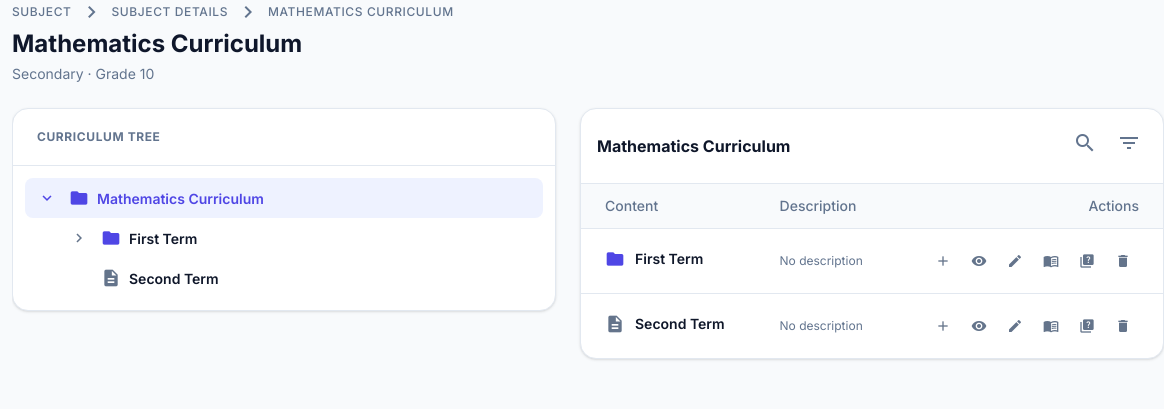
Scenario: TenantSubjectCurriculumComponent › renders the selected curriculum node direct children in the content table
Expected: the button "First Term No description" is shown, [581,228,1163,294]
Expected: the button "Second Term No description" is shown, [581,294,1163,358]
Click the button with class "curriculum-content-link" below "Content" at x=654, y=258, box [605,248,703,268]
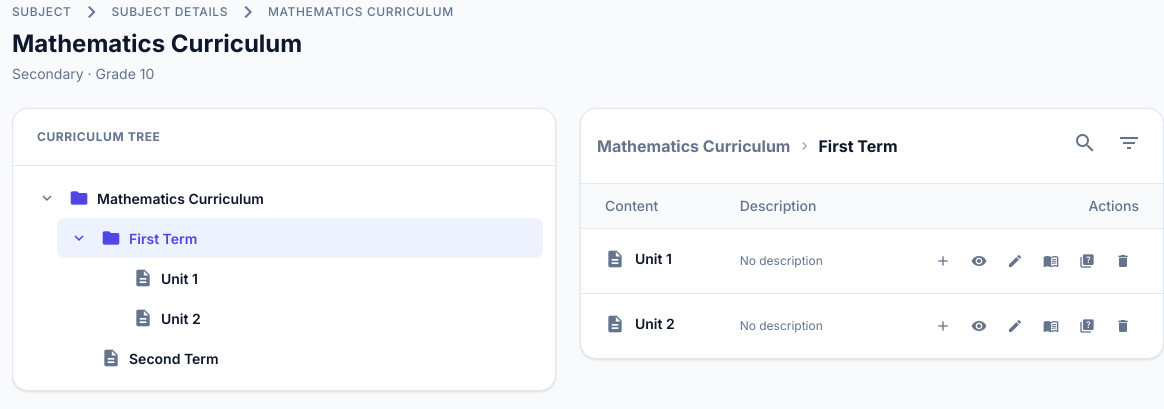
Expected: the text "First Term" is not shown
Expected: the button "Unit 1 No description" is shown, [581,228,1163,294]
Expected: the button "Unit 2 No description" is shown, [581,294,1163,358]
